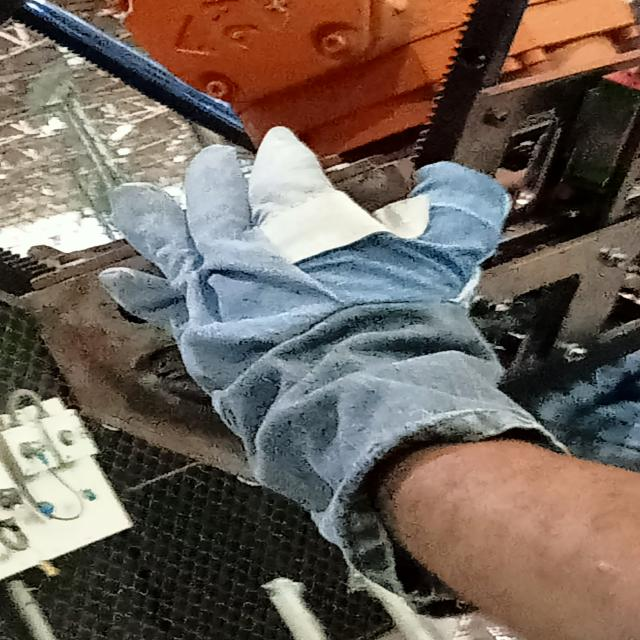Gloves-Detection: (76, 107, 576, 543)
